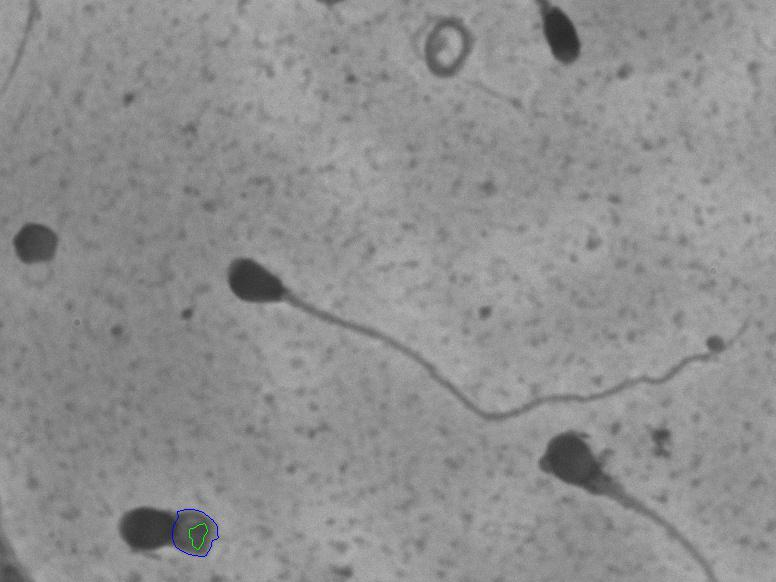Abnormal: (208, 240, 760, 440)
